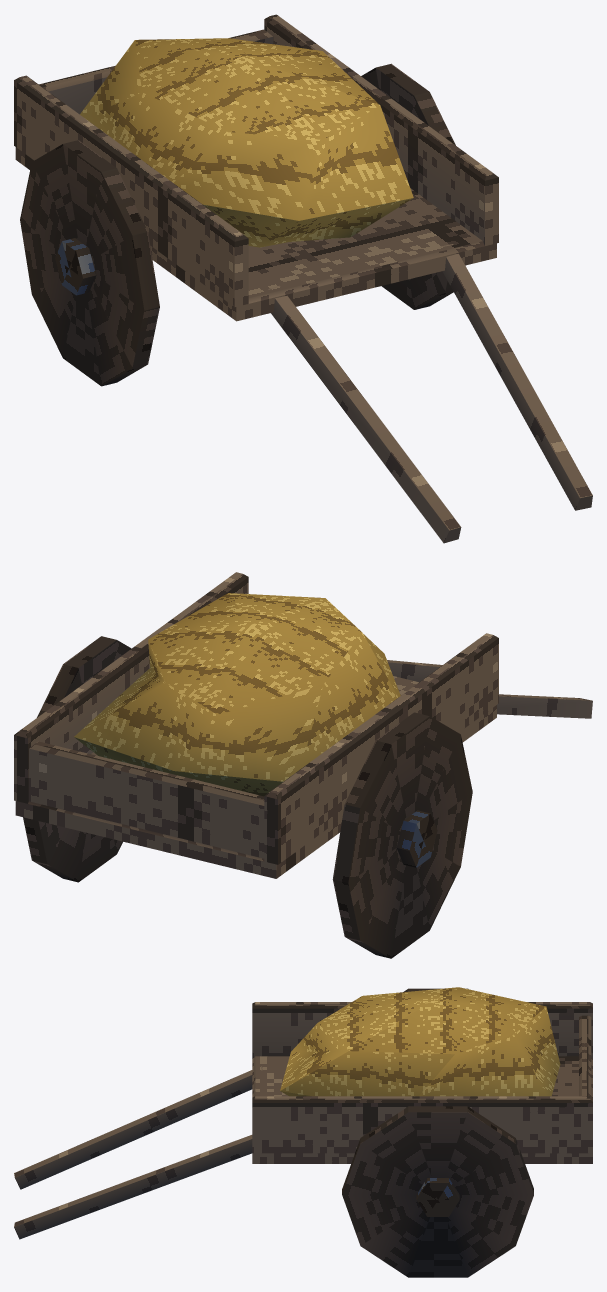
File: mprop.cart.glb
3 renders of one model, top to bottom at view 1: azimuth 30°, elevation 25°; view 2: azimuth 150°, elevation 25°; view 3: azimuth 270°, elevation 25°, orthographic. The views are drawn at different scales.
Parts seen in each view (by area): view 1: kit_bed, kit_load, kit_wheels; view 2: kit_bed, kit_load, kit_wheels; view 3: kit_bed, kit_wheels, kit_load.
Part boxes in pixels (bbox=[...]): kit_bed: bbox=[14, 14, 592, 543]; kit_load: bbox=[80, 38, 413, 247]; kit_wheels: bbox=[20, 63, 455, 386]; kit_bed: bbox=[14, 572, 592, 878]; kit_load: bbox=[74, 593, 400, 796]; kit_wheels: bbox=[23, 636, 472, 958]; kit_bed: bbox=[14, 1002, 592, 1239]; kit_wheels: bbox=[342, 988, 533, 1277]; kit_load: bbox=[280, 987, 560, 1096].
Bounding box in the file's own units: 2.04 × 1.52 × 3.74.
5 materials, 5 textured.
